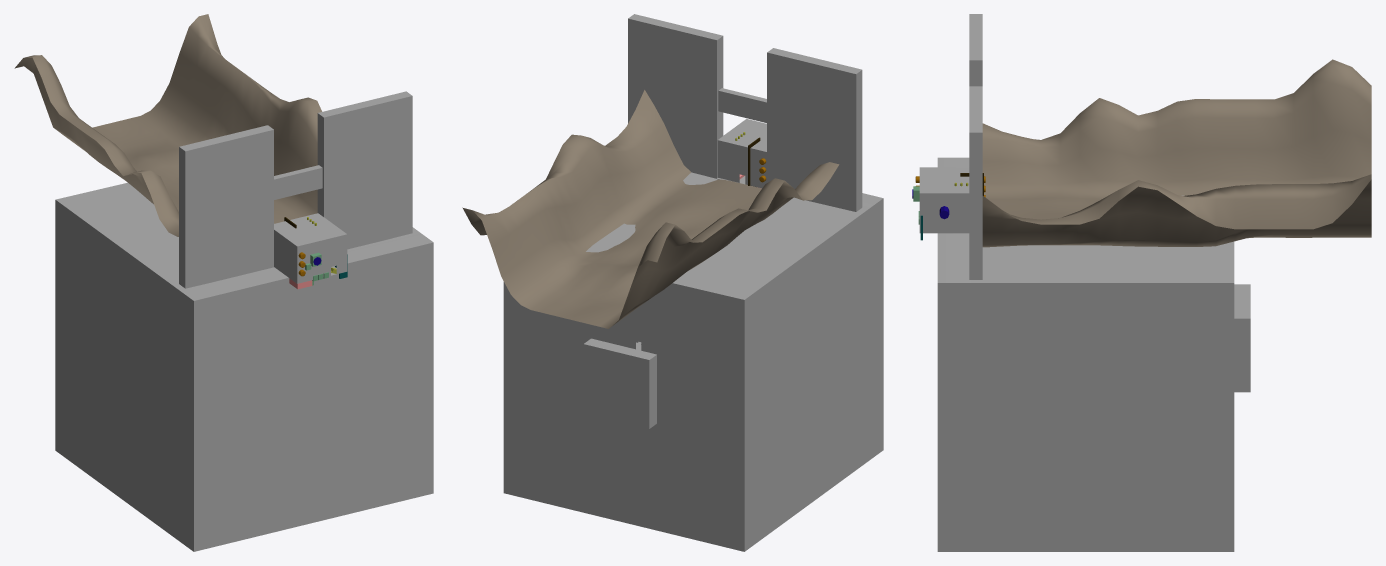
3 views of the same model, side by side, from view 1: azimuth 30°, elevation 25°; view 2: azimuth 150°, elevation 25°; view 3: azimuth 270°, elevation 25° (orthographic). The views are drawn at different scales.
Visible parts, largest first — view 1: pCube9, pPlane1, pCube30, pCube29, pCube1, pCube31; view 2: pCube9, pPlane1, pCube30, pCube29, pCube23, pCube1, pCube31; view 3: pCube9, pPlane1, pCube1, pCube29, pCube23, pCube30.
Part boxes in pixels (x1,y1,x2,y2): pCube9: (55, 182, 433, 551); pPlane1: (14, 14, 321, 236); pCube30: (179, 125, 273, 288); pCube29: (317, 91, 412, 249); pCube1: (274, 213, 347, 283); pCube31: (274, 165, 322, 199); pCube9: (503, 172, 883, 551); pPlane1: (462, 90, 839, 328); pCube30: (767, 48, 862, 211); pCube29: (628, 14, 723, 178); pCube23: (583, 338, 656, 428); pCube1: (717, 119, 766, 188); pCube31: (718, 88, 766, 122); pCube9: (937, 157, 1234, 551); pPlane1: (982, 59, 1371, 247); pCube1: (919, 167, 969, 233); pCube29: (969, 86, 982, 279); pCube23: (1234, 284, 1250, 392); pCube30: (969, 14, 982, 86).
Size of the model in its own units: 7349 by 11368 by 11375.
